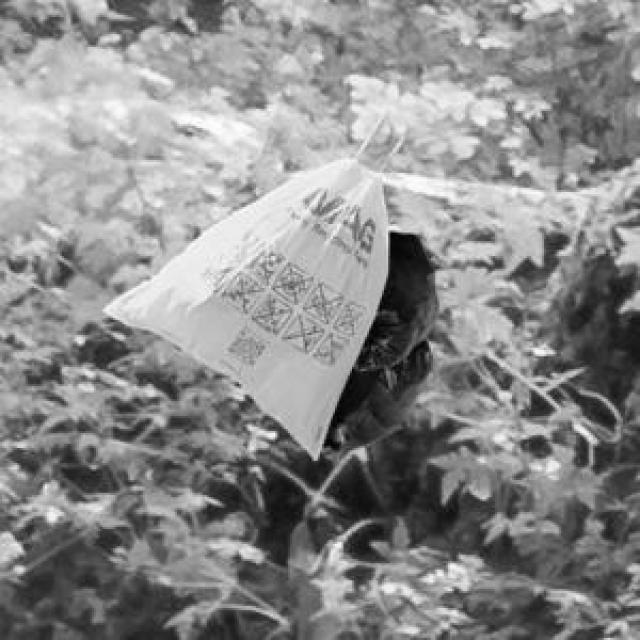miscellaneous trash: (319, 229, 433, 448)
